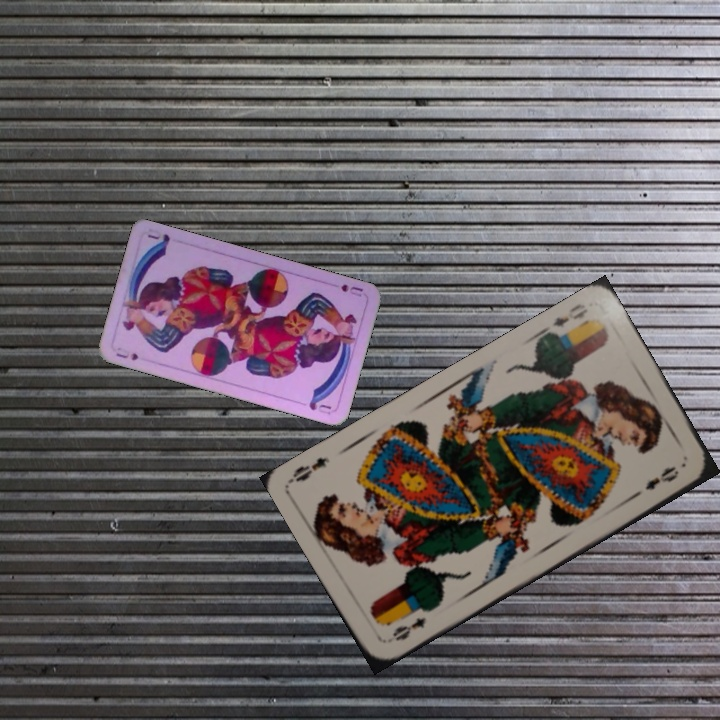EO: (538, 299, 592, 341), (388, 613, 429, 644)
SU: (112, 343, 141, 363), (337, 280, 366, 299)
